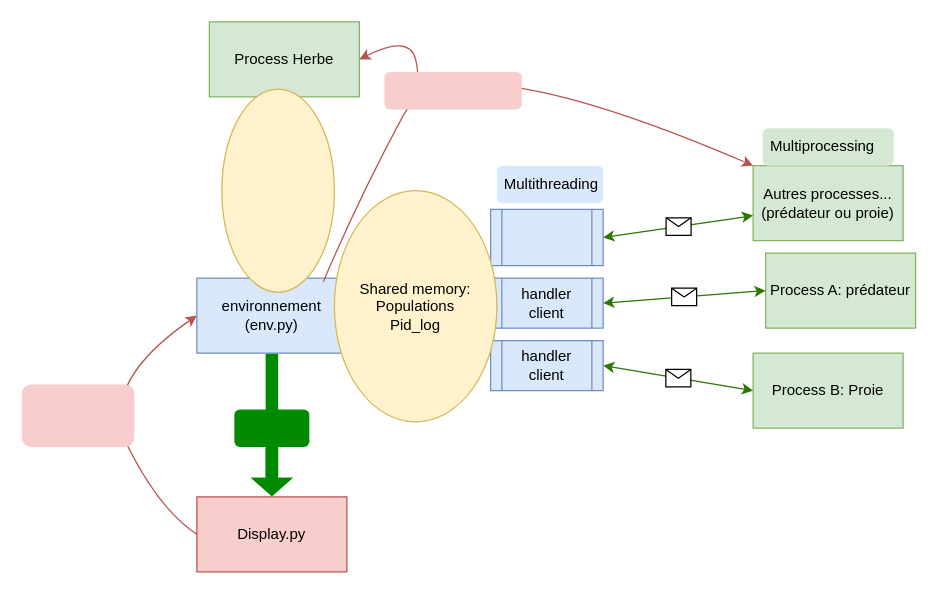
This 938x594 diagram has some shape labels left out. The centre of each missing label's shape, as x and y in pixels:
"handlers clients (dans env.py" goes at (546,237).
"Pipe" goes at (271,427).
"Shared memory: Populatons Grass_secheresse" goes at (277,190).
"Signal : SIGUSR1 Event" goes at (77,415).
"Signal : SIGUSR2" goes at (452,90).
